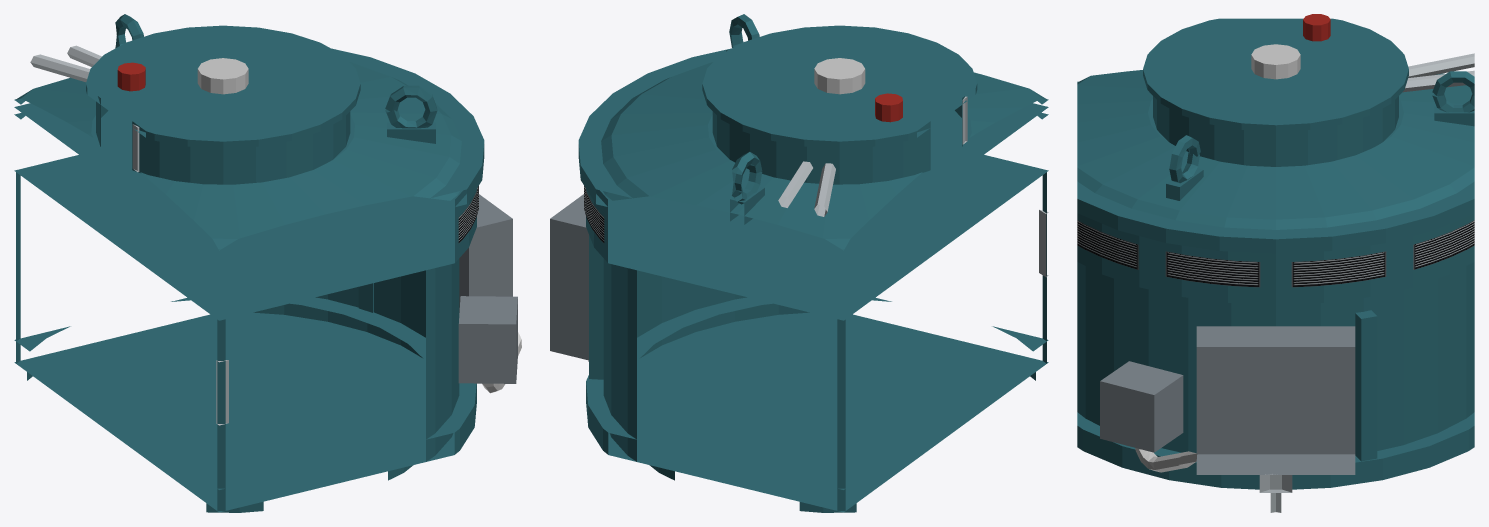
Rendered from cell_53.obj.
The picture shows the model from 3 angles, left to right: view 1: azimuth 30°, elevation 25°; view 2: azimuth 150°, elevation 25°; view 3: azimuth 270°, elevation 25°; orthographic projection. The views are drawn at different scales.
Size of the model in its own units: 1 by 0.9518 by 1.
